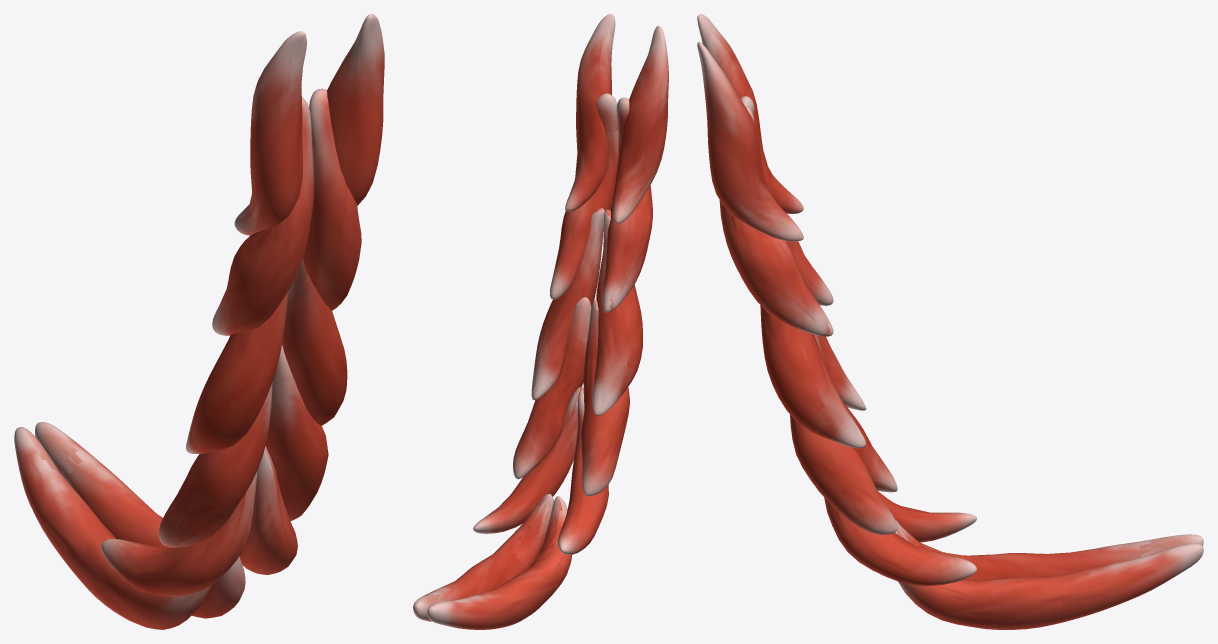
Rendered from Longus colli.fbx.
3 views of the same model, side by side, from view 1: azimuth 30°, elevation 25°; view 2: azimuth 150°, elevation 25°; view 3: azimuth 270°, elevation 25° (orthographic). The views are drawn at different scales.
Visible parts, largest first — view 1: Longus colli, Longus colli low; view 2: Longus colli, Longus colli low; view 3: Longus colli, Longus colli low.
Boxes of the visible parts, x1,y1,x2,y2 form: Longus colli: (14, 14, 384, 629); Longus colli low: (22, 24, 382, 627); Longus colli: (413, 14, 668, 629); Longus colli low: (418, 22, 668, 616); Longus colli: (697, 14, 1203, 629); Longus colli low: (702, 21, 1172, 618).
Size of the model in its own units: 12.36 by 60.72 by 47.17.
Materials: 1 (1 with a texture image).
